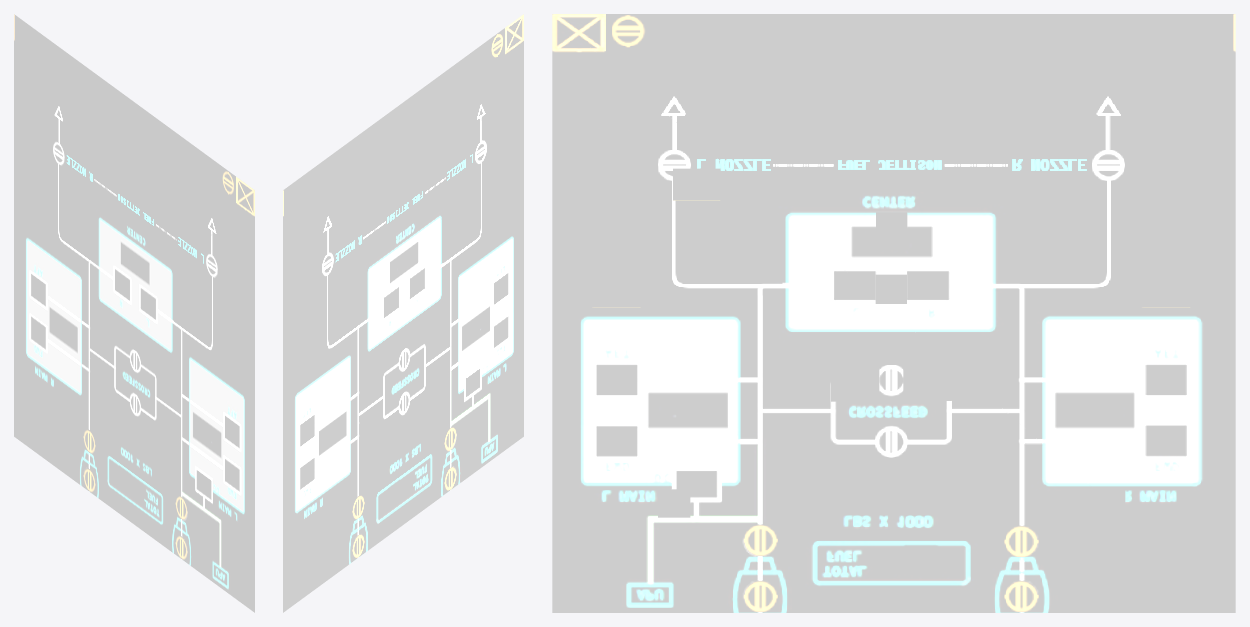
The model's file is fuel.glb.
3 views of the same model, side by side, from view 1: azimuth 30°, elevation 25°; view 2: azimuth 150°, elevation 25°; view 3: azimuth 270°, elevation 25° (orthographic). The views are drawn at different scales.
Visible parts, largest first — view 1: fuel; view 2: fuel; view 3: fuel (×2), rtank (×2), ltank (×2), extpwr (×2), xfeed (×2), rnozzle, lnozzle.
Boxes of the visible parts, x1,y1,x2,y2 form: fuel: [14, 14, 254, 612]; fuel: [283, 14, 523, 612]; fuel (×2): [552, 14, 1235, 612]; rtank (×2): [1141, 209, 1190, 307]; ltank (×2): [592, 209, 640, 307]; extpwr (×2): [831, 364, 951, 401]; xfeed (×2): [875, 212, 907, 303]; rnozzle: [1093, 489, 1125, 518]; lnozzle: [658, 489, 690, 517].
Size of the model in its own units: 0.000432 by 0.1626 by 0.1681.
1 material, 1 textured.
